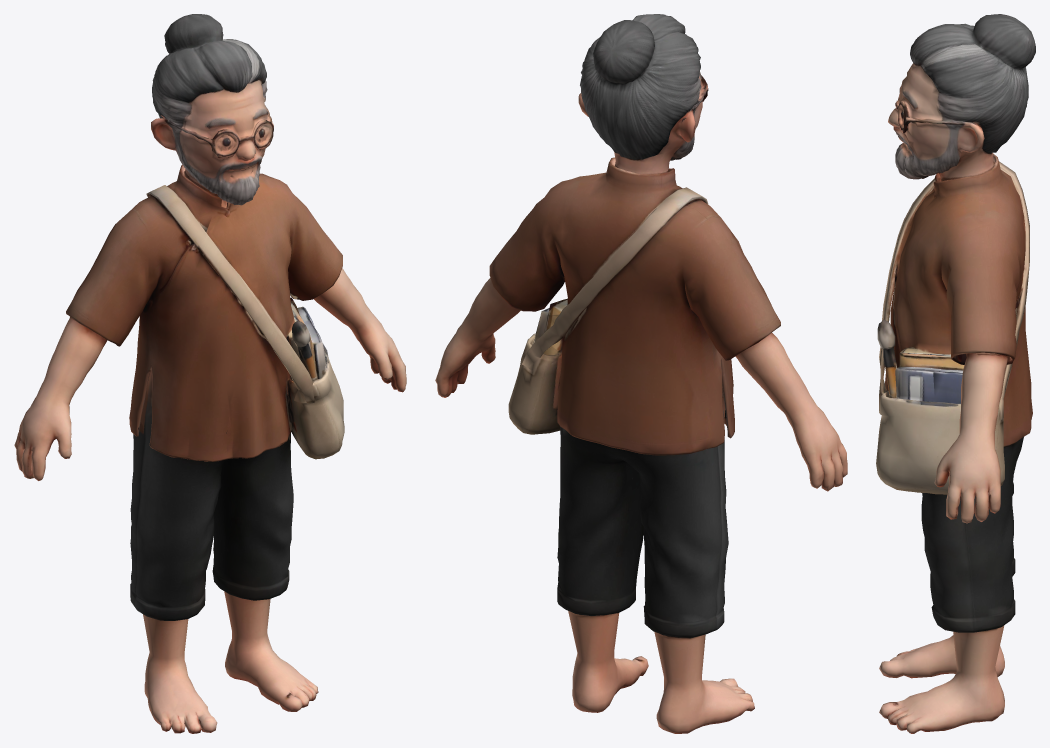
The model's file is thay-linh.5876cd7a.glb.
3 renders of one model, left to right at view 1: azimuth 30°, elevation 25°; view 2: azimuth 150°, elevation 25°; view 3: azimuth 270°, elevation 25°, orthographic. The views are drawn at different scales.
Parts seen in each view (by area): view 1: tripo_node_e8f0bc3e-c92e-4288-9561-90099d617f7b; view 2: tripo_node_e8f0bc3e-c92e-4288-9561-90099d617f7b; view 3: tripo_node_e8f0bc3e-c92e-4288-9561-90099d617f7b.
Part boxes in pixels (left/top/right/bottom): tripo_node_e8f0bc3e-c92e-4288-9561-90099d617f7b: left=14, top=14, right=406, bottom=733; tripo_node_e8f0bc3e-c92e-4288-9561-90099d617f7b: left=435, top=14, right=847, bottom=733; tripo_node_e8f0bc3e-c92e-4288-9561-90099d617f7b: left=876, top=14, right=1035, bottom=733.
Size of the model in its own units: 0.5835 by 0.9775 by 0.2085.
Materials: 1 (1 with a texture image).
